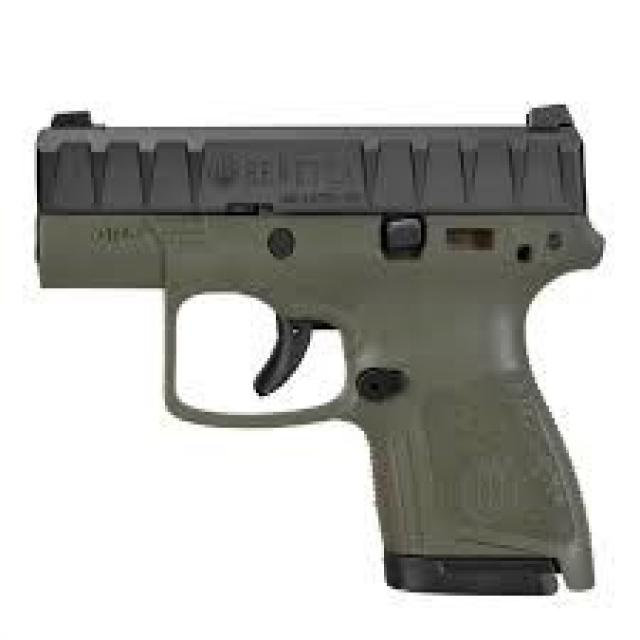pistol: (26, 100, 612, 614)
